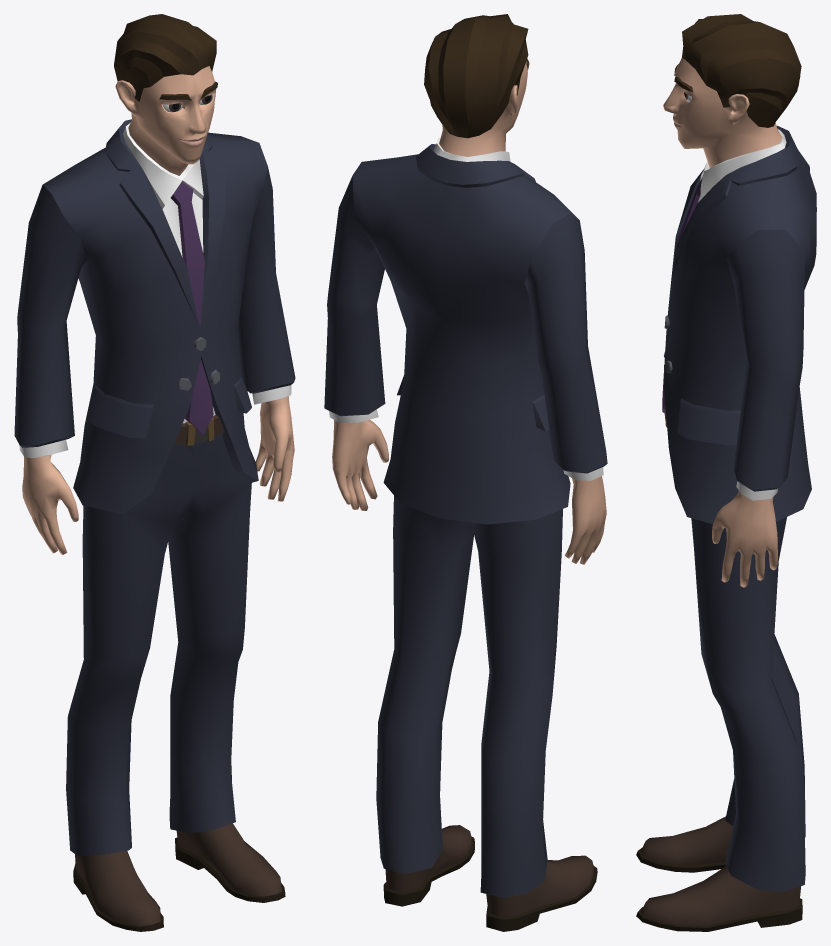
The picture shows the model from 3 angles, left to right: view 1: azimuth 30°, elevation 25°; view 2: azimuth 150°, elevation 25°; view 3: azimuth 270°, elevation 25°; orthographic projection.
Visible parts, largest first — view 1: man_in_suit; view 2: man_in_suit; view 3: man_in_suit.
Part boxes in pixels (x1,y1,x2,y2): man_in_suit: (14, 14, 295, 931); man_in_suit: (324, 14, 607, 931); man_in_suit: (636, 14, 816, 931).
Bounding box in the file's own units: 12.28 × 36.81 × 6.93.
